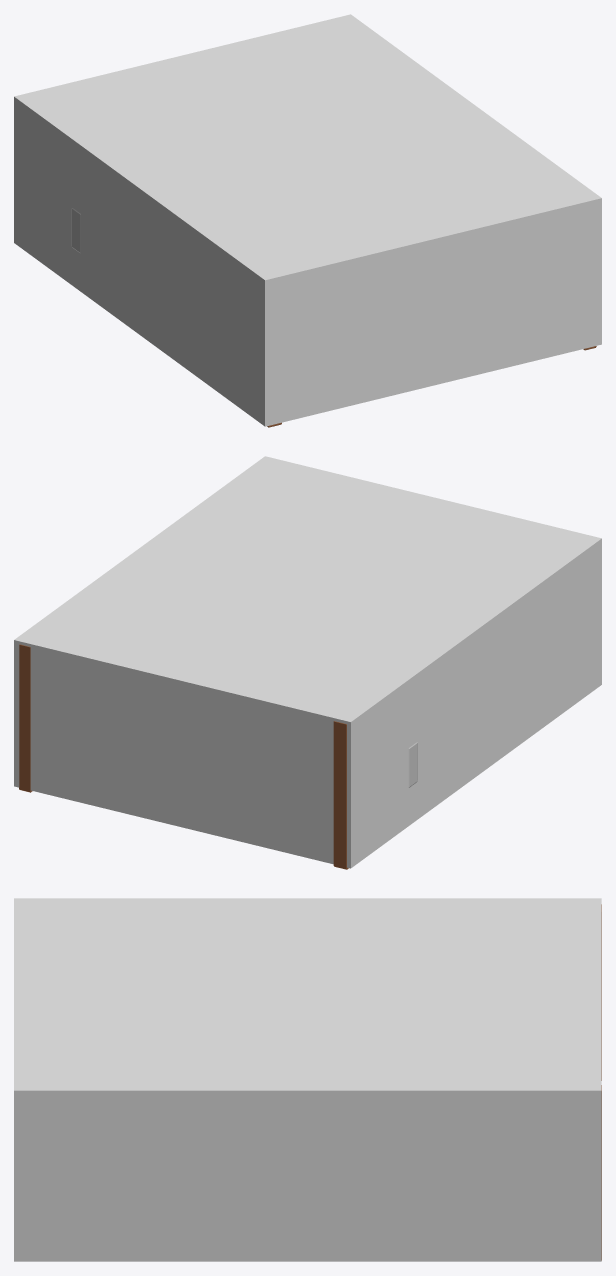
Rendered from bed-double-01.glb.
The picture shows the model from 3 angles, top to bottom: view 1: azimuth 30°, elevation 25°; view 2: azimuth 150°, elevation 25°; view 3: azimuth 270°, elevation 25°; orthographic projection. The views are drawn at different scales.
Visible parts, largest first — view 1: Bed double_col; view 2: Bed double_col, Bed double; view 3: Bed double_col.
Part boxes in pixels (box(x1,y1,x2,y2)): Bed double_col: box(14, 14, 601, 426); Bed double_col: box(14, 456, 601, 868); Bed double: box(19, 644, 417, 869); Bed double_col: box(14, 898, 601, 1261).
Size of the model in its own units: 8.6 by 3.63 by 11.11.
